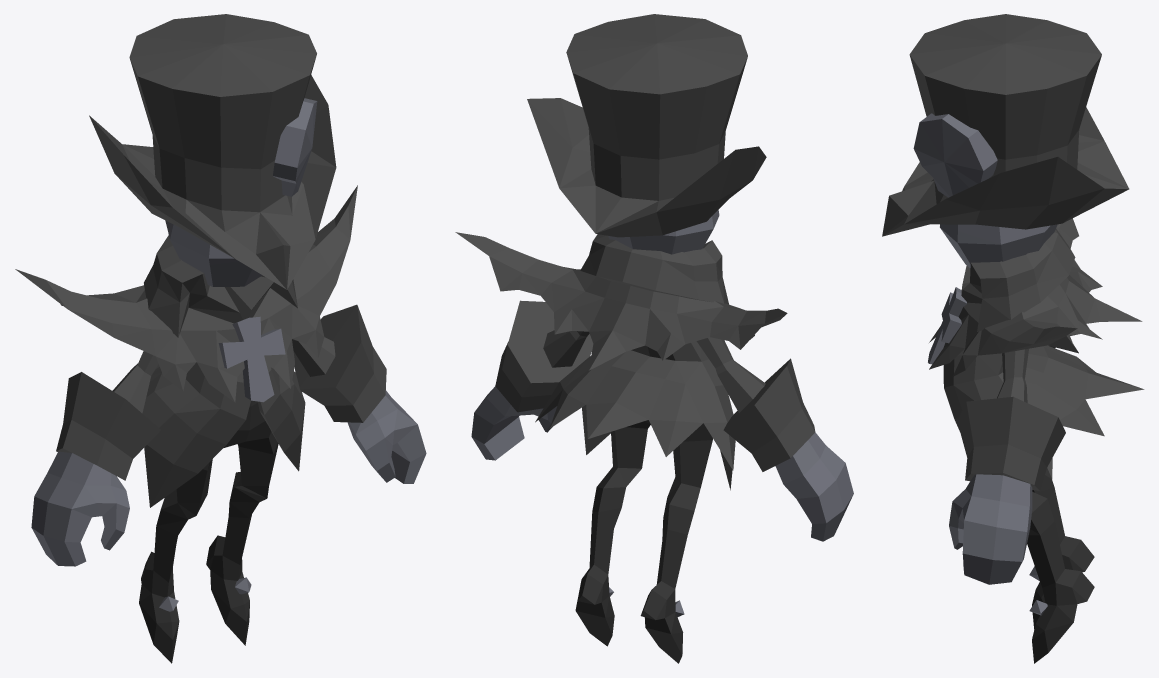
Rendered from FallenAngel04_ACC.FBX.
3 views of the same model, side by side, from view 1: azimuth 30°, elevation 25°; view 2: azimuth 150°, elevation 25°; view 3: azimuth 270°, elevation 25° (orthographic). The views are drawn at different scales.
Parts seen in each view (by area): view 1: FallenAngel04_ACC; view 2: FallenAngel04_ACC; view 3: FallenAngel04_ACC.
Part boxes in pixels (left/top/right/bottom): FallenAngel04_ACC: left=15, top=14, right=426, bottom=663; FallenAngel04_ACC: left=455, top=14, right=853, bottom=663; FallenAngel04_ACC: left=882, top=14, right=1144, bottom=663.
Size of the model in its own units: 92.28 by 147 by 58.01.
